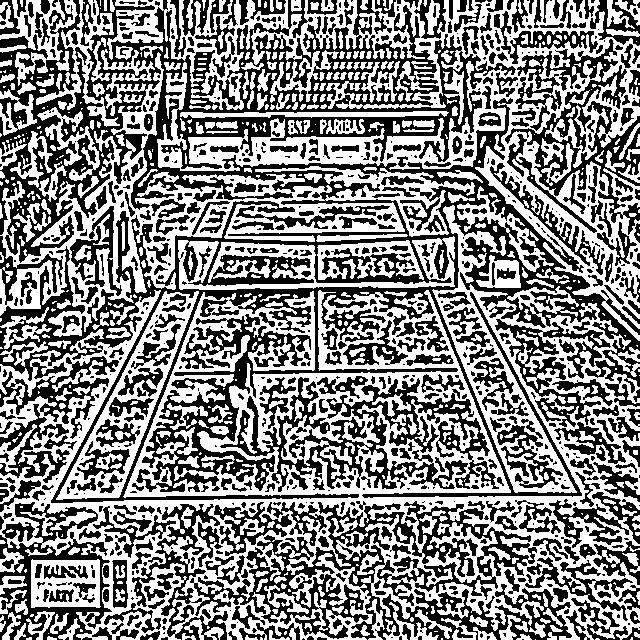left side: (53, 203, 236, 502), (395, 202, 580, 494)
player: (226, 330, 262, 460), (416, 188, 451, 236)
